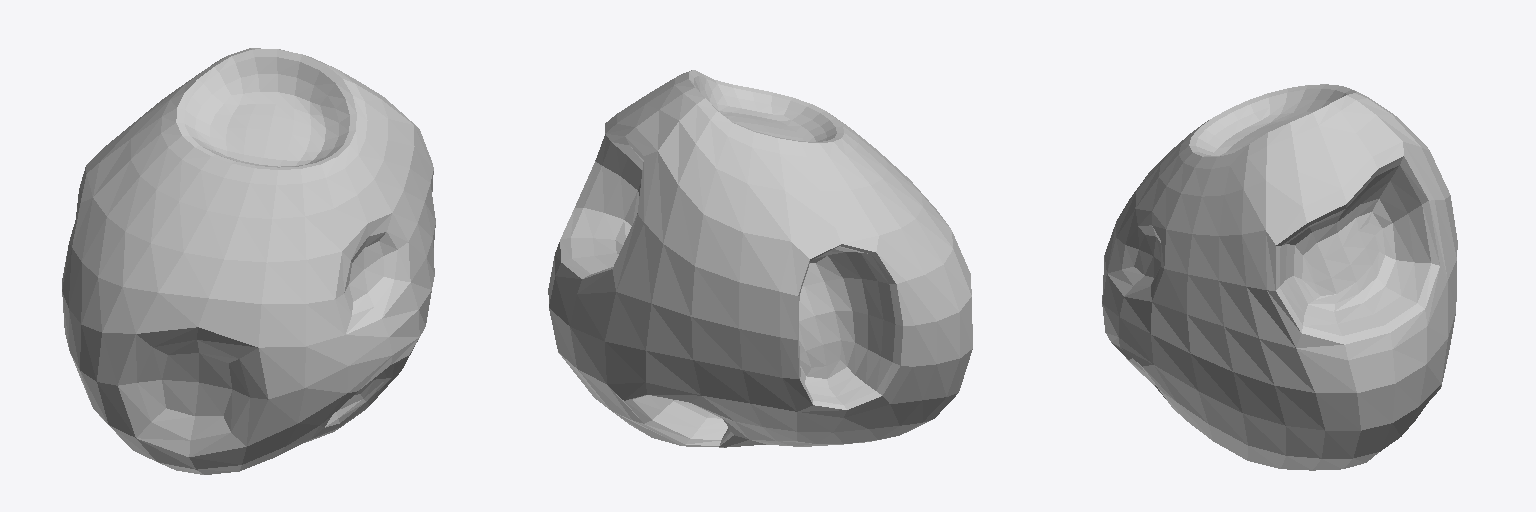
File: AsteroidSphere.obj
3 renders of one model, left to right at view 1: azimuth 30°, elevation 25°; view 2: azimuth 150°, elevation 25°; view 3: azimuth 270°, elevation 25°, orthographic.
Parts seen in each view (by area): view 1: Sphere; view 2: Sphere; view 3: Sphere.
Part boxes in pixels (x1,y1,x2,y2): Sphere: (62,48,435,474); Sphere: (548,70,972,447); Sphere: (1102,84,1457,470).
Bounding box in the file's own units: 2.4 × 2.19 × 2.01.